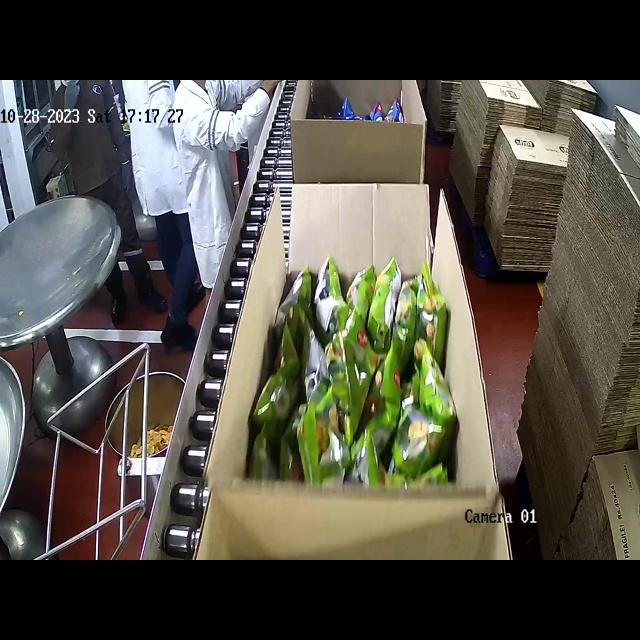yogurt: (247, 253, 459, 488)
